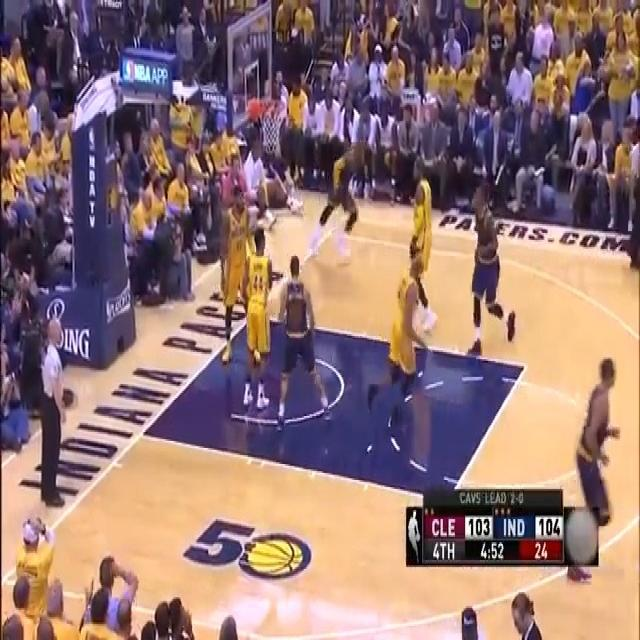hoop: (255, 94, 282, 154)
